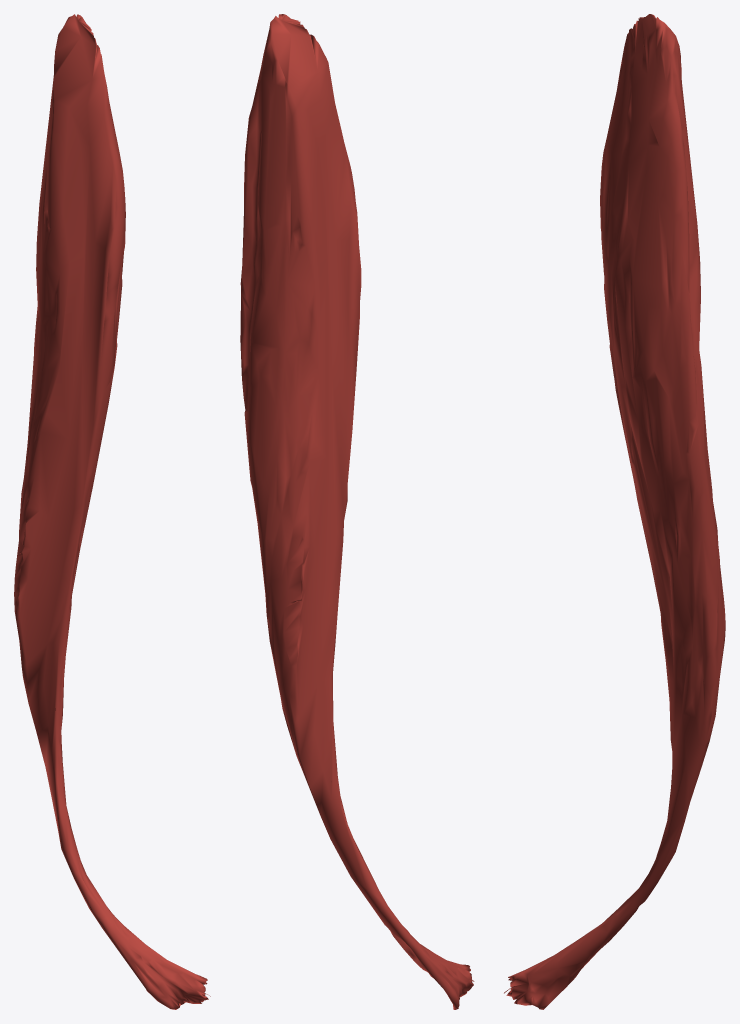
Rendered from musculos-tibialis-anterior-muscle-l.glb.
The picture shows the model from 3 angles, left to right: view 1: azimuth 90°, elevation 25°; view 2: azimuth 150°, elevation 25°; view 3: azimuth 270°, elevation 25°; orthographic projection. The views are drawn at different scales.
Parts seen in each view (by area): view 1: Tibialis anterior muscle.l; view 2: Tibialis anterior muscle.l; view 3: Tibialis anterior muscle.l.
Part boxes in pixels (x1,y1,x2,y2): Tibialis anterior muscle.l: (14, 14, 210, 1009); Tibialis anterior muscle.l: (240, 14, 474, 1009); Tibialis anterior muscle.l: (504, 14, 725, 1009).
Bounding box in the file's own units: 0.0608 × 0.3683 × 0.0703.
